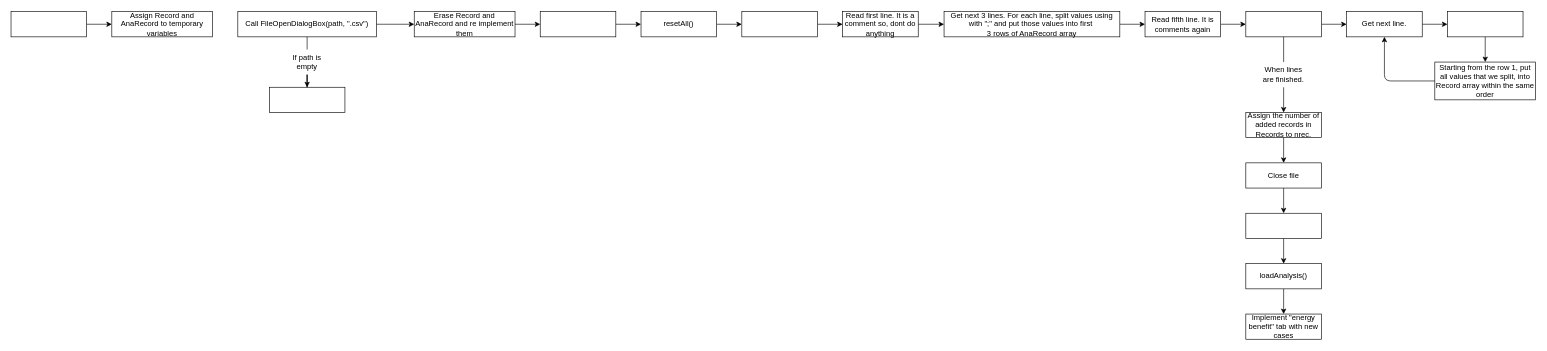
The diagram is 1547 pixels wide and 351 high, and some of its shapes have lost their labels. The shapes that lost their labels are listed below. From the top down, each one's centre as x and y in pixels, then its label:
(x=48, y=24): LoadCase(flag)
(x=578, y=24): unloadforms()
(x=779, y=24): Start()
(x=1283, y=24): From here for the rest of the file
(x=1485, y=24): Split the line using ";"
(x=307, y=99): Make flag 0 then exit function
(x=1283, y=225): Add new cases to summary page
